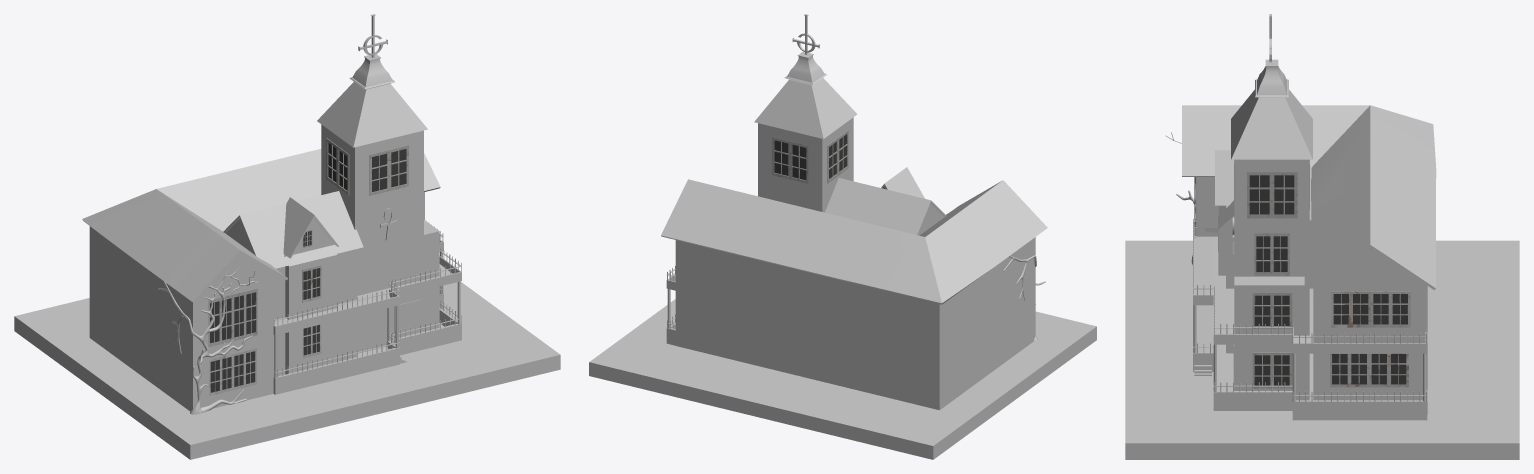
The model's file is haunted house-the house of ancient symbols.fbx.
3 renders of one model, left to right at view 1: azimuth 30°, elevation 25°; view 2: azimuth 150°, elevation 25°; view 3: azimuth 270°, elevation 25°, orthographic. The views are drawn at different scales.
Parts seen in each view (by area): view 1: house base, foundation, roof, balconies, windows, dead tree, door, pillars, symbols; view 2: house base, roof, foundation, windows; view 3: foundation, roof, house base, balconies, windows, pillars.
Boxes of the visible parts, x1,y1,x2,y2 form: house base: [89, 124, 439, 411]; foundation: [14, 282, 560, 459]; roof: [82, 54, 440, 302]; balconies: [273, 220, 461, 394]; windows: [208, 138, 408, 395]; dead tree: [158, 267, 258, 414]; door: [394, 299, 420, 338]; pillars: [274, 251, 460, 377]; symbols: [358, 14, 397, 240]; house base: [675, 117, 1035, 410]; roof: [661, 51, 1047, 304]; foundation: [589, 299, 1096, 459]; windows: [772, 130, 848, 183]; foundation: [1125, 240, 1519, 459]; roof: [1182, 59, 1436, 290]; house base: [1196, 159, 1427, 414]; balconies: [1193, 218, 1427, 420]; windows: [1196, 160, 1410, 388]; pillars: [1193, 236, 1426, 401].
Size of the model in its own units: 2718 by 2365 by 2238.
